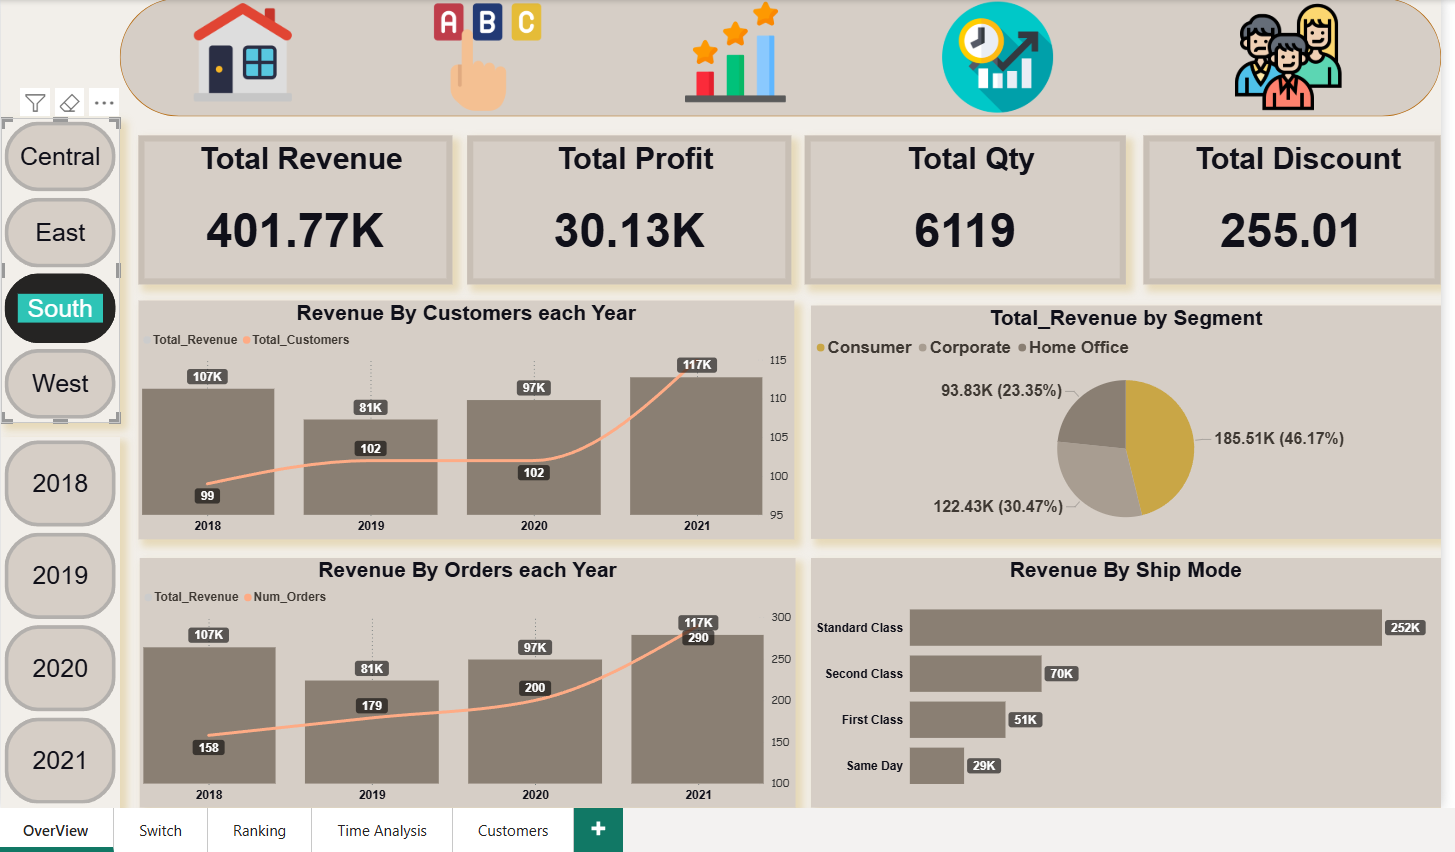

Layout of this report page (visuals, bound fields, positions):
{"tool":"powerbi","page":{"name":"OverView","canvas":[1920,1080],"ordinal":0},"visuals":[{"type":"advancedSlicerVisual","fields":{"Values":["Calendar_Table.Year"]},"box":[0,585.7,158.6,494.3],"z":2000},{"type":"advancedSlicerVisual","fields":{"Values":["Dim_Customer.Region"]},"box":[0,160,158.3,406.7],"z":3000},{"type":"shape","box":[158,0,1762,158],"z":5000},{"type":"card","title":"Total Profit","fields":{"Values":["Dax.Total_Profit"]},"box":[622,184,432,198],"z":6000},{"type":"card","fields":{"Values":["Dax.Show % Profit"]},"box":[621.8,295.5,121.8,106.4],"z":7000},{"type":"card","fields":{"Values":["Dax.Show Arrow Profit"]},"box":[924.5,291.8,170,110],"z":8000},{"type":"card","title":"Total Qty","fields":{"Values":["Dax.Total_Quantity"]},"box":[1072,184,428,198],"z":9000},{"type":"card","fields":{"Values":["Dax.Show % Quantity"]},"box":[1080,295.5,136.4,103.6],"z":10000},{"type":"card","fields":{"Values":["Dax.Show Arrow Quantity"]},"box":[1373.6,291.8,172.7,106.4],"z":11000},{"type":"card","title":"Total Discount","fields":{"Values":["Dax.Total_Discount"]},"box":[1524,184,396,198],"z":12000},{"type":"card","fields":{"Values":["Dax.Show % Discount"]},"box":[1523.6,291.8,136.4,103.6],"z":13000},{"type":"card","fields":{"Values":["Dax.Show Arrow Discount"]},"box":[1840.9,295.5,79.1,94.5],"z":14000},{"type":"lineClusteredColumnComboChart","title":"Revenue By Customers each Year","fields":{"Category":["Calendar_Table.Year"],"Y":["Dax.Total_Revenue"],"Y2":["Dax.Total_Customers"]},"box":[184,404,874,318],"z":15000},{"type":"barChart","title":"Revenue By Ship Mode","fields":{"Category":["Dim_Order.Ship Mode"],"Y":["Dax.Total_Revenue"]},"box":[1080.4,747.4,839.7,333],"z":16000},{"type":"pieChart","fields":{"Y":["Dax.Total_Revenue"],"Category":["Dim_Order.Segment"]},"box":[1080.4,410.8,839.7,311.3],"z":17000},{"type":"lineClusteredColumnComboChart","title":"Revenue By Orders each Year","fields":{"Category":["Calendar_Table.Year"],"Y2":["Dax.Num_Orders"],"Y":["Dax.Total_Revenue"]},"box":[184.6,747.4,874.1,333],"z":18000},{"type":"image","box":[230.7,0,184.2,144.8],"z":19000},{"type":"image","box":[570,0,158,158],"z":20000},{"type":"image","box":[1638,0,156,158],"z":21000},{"type":"image","box":[900,0,158,144],"z":22000},{"type":"image","box":[1250,0,158,158],"z":23000},{"type":"card","title":"Total Revenue","fields":{"Values":["Dax.Total_Revenue"]},"box":[184,184,418,198],"z":24000},{"type":"card","fields":{"Values":["Dax.Show Arrow Revenue"]},"box":[479.1,295.5,170,106.4],"z":25000},{"type":"card","fields":{"Values":["Dax.Show % Revenue"]},"box":[183.6,298.2,124.5,103.6],"z":25500}]}

Visuals, with their boxes on the page's 1920x1080 design canvas (x1, y1, x2, y2). These are canvas units, not pixel positions in the 1455x852 screenshot, which may show the page scaled, cropped or inside an application window:
advancedSlicerVisual - Calendar_Table.Year: bbox=[0, 586, 159, 1080]
advancedSlicerVisual - Dim_Customer.Region: bbox=[0, 160, 158, 567]
shape: bbox=[158, 0, 1920, 158]
"Total Profit" card: bbox=[622, 184, 1054, 382]
card - Dax.Show % Profit: bbox=[622, 296, 744, 402]
card - Dax.Show Arrow Profit: bbox=[924, 292, 1094, 402]
"Total Qty" card: bbox=[1072, 184, 1500, 382]
card - Dax.Show % Quantity: bbox=[1080, 296, 1216, 399]
card - Dax.Show Arrow Quantity: bbox=[1374, 292, 1546, 398]
"Total Discount" card: bbox=[1524, 184, 1920, 382]
card - Dax.Show % Discount: bbox=[1524, 292, 1660, 395]
card - Dax.Show Arrow Discount: bbox=[1841, 296, 1920, 390]
"Revenue By Customers each Year" lineClusteredColumnComboChart: bbox=[184, 404, 1058, 722]
"Revenue By Ship Mode" barChart: bbox=[1080, 747, 1920, 1080]
pieChart - Dax.Total_Revenue x Dim_Order.Segment: bbox=[1080, 411, 1920, 722]
"Revenue By Orders each Year" lineClusteredColumnComboChart: bbox=[185, 747, 1059, 1080]
image: bbox=[231, 0, 415, 145]
image: bbox=[570, 0, 728, 158]
image: bbox=[1638, 0, 1794, 158]
image: bbox=[900, 0, 1058, 144]
image: bbox=[1250, 0, 1408, 158]
"Total Revenue" card: bbox=[184, 184, 602, 382]
card - Dax.Show Arrow Revenue: bbox=[479, 296, 649, 402]
card - Dax.Show % Revenue: bbox=[184, 298, 308, 402]
